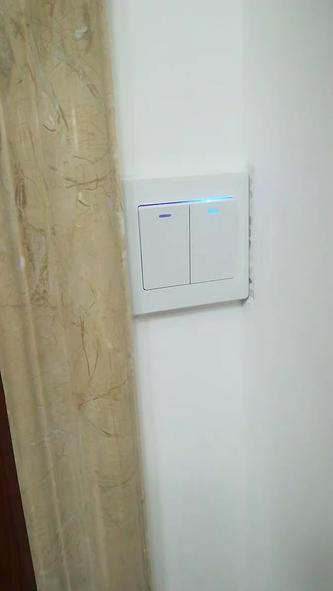switch: (136, 198, 197, 294), (184, 196, 240, 283)
